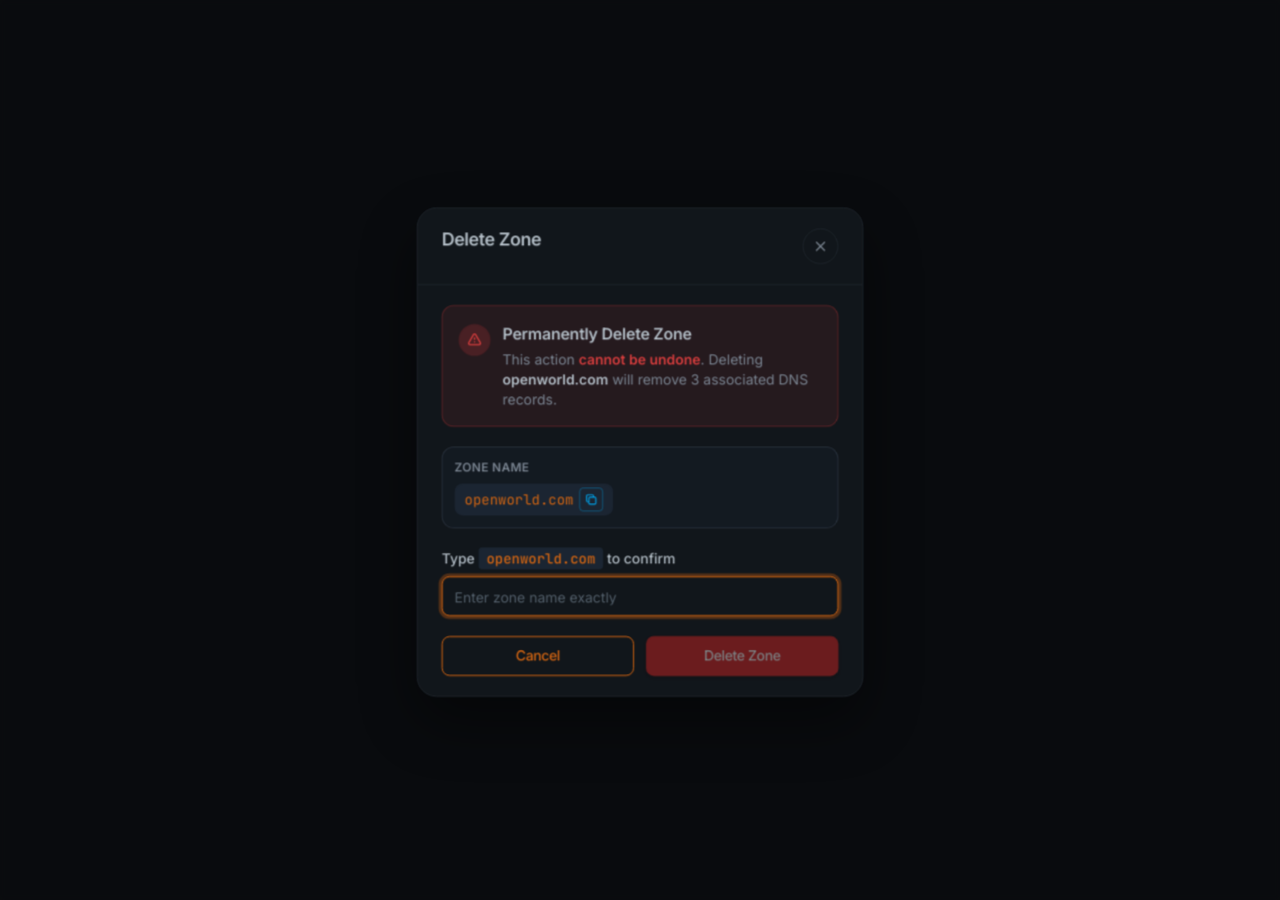
it: DeleteZoneModal › shows inline fallback feedback when clipboard copy fails
Click the button named "Copy zone name" at (591,499), box 579,487 -> 603,511
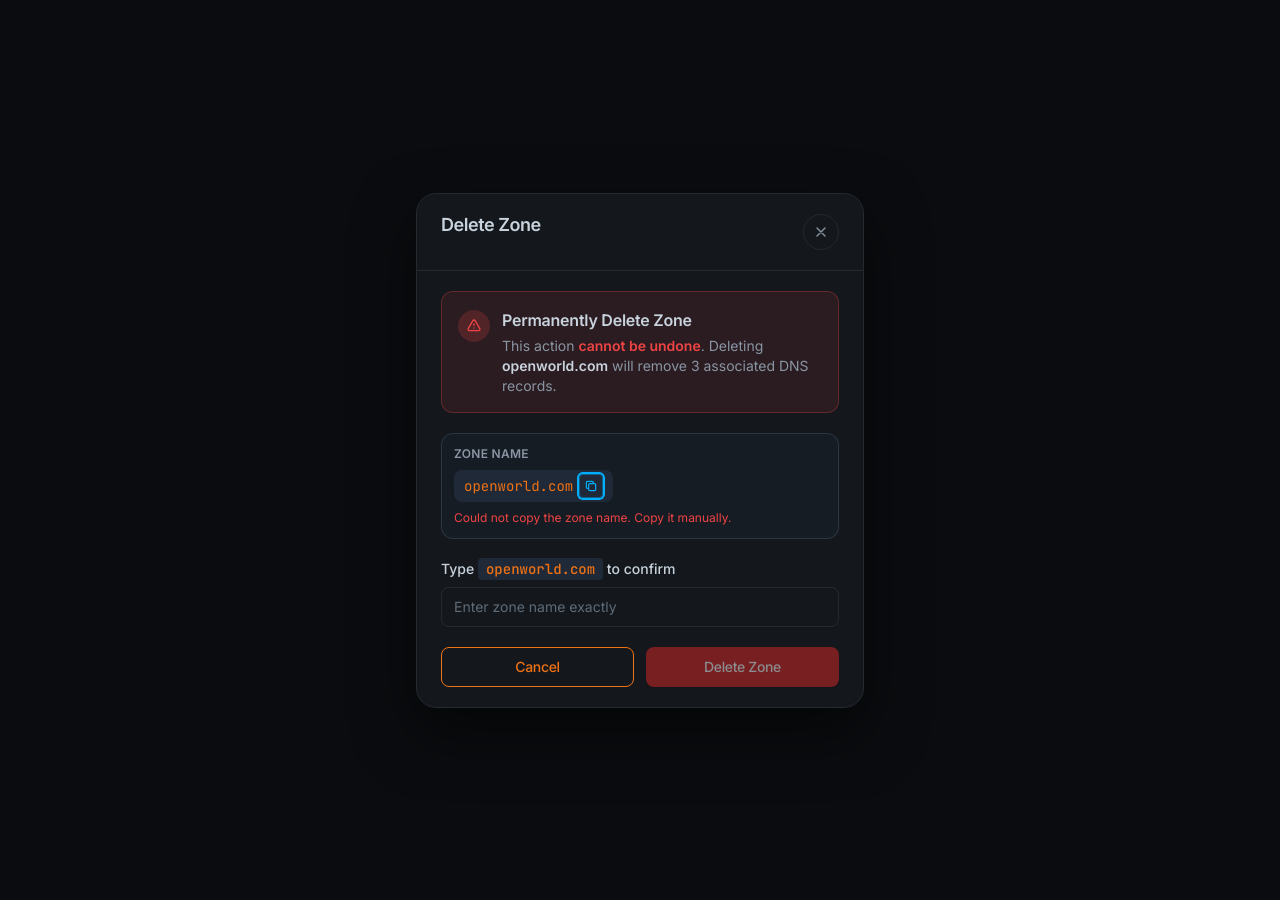
Now the text "Could not copy the zone name. Copy it manually." is shown, box 454,510 -> 731,524
